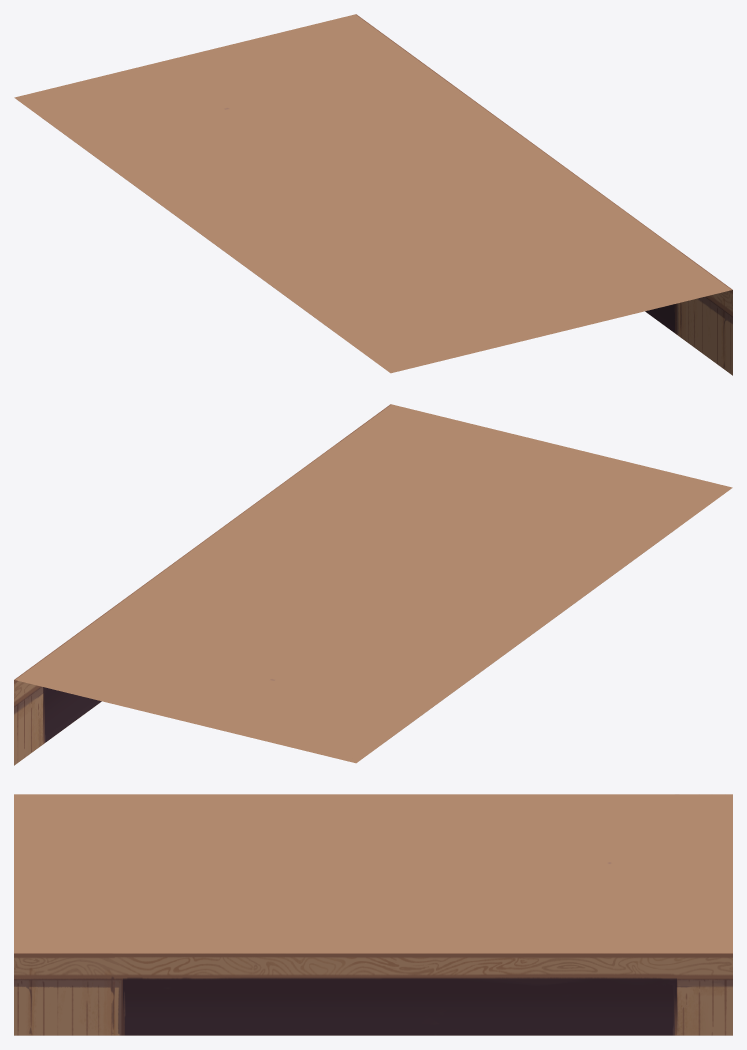
Rendered from TableMainScreen.fbx.
3 renders of one model, top to bottom at view 1: azimuth 30°, elevation 25°; view 2: azimuth 150°, elevation 25°; view 3: azimuth 270°, elevation 25°, orthographic. The views are drawn at different scales.
Visible parts, largest first — view 1: Plane; view 2: Plane; view 3: Plane.
Part boxes in pixels (left/top/right/bottom): Plane: left=14, top=14, right=732, bottom=375; Plane: left=14, top=404, right=732, bottom=765; Plane: left=14, top=794, right=732, bottom=1035.
Bounding box in the file's own units: 2.72 × 0.6539 × 5.19.
